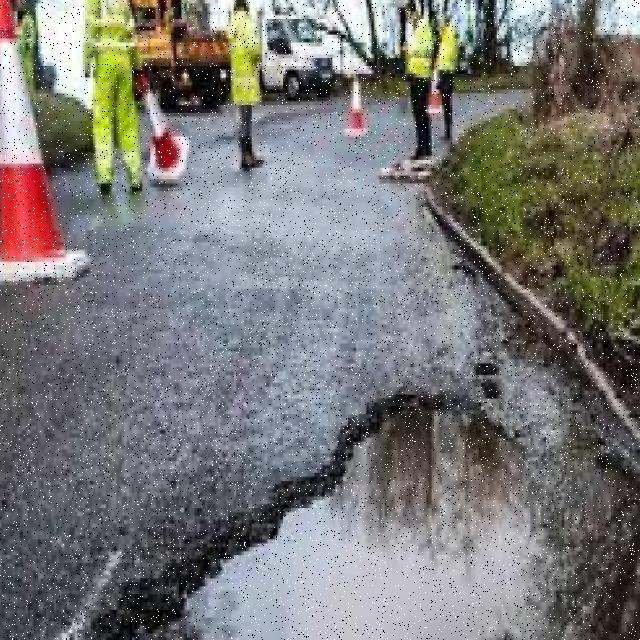pothole: (146, 356, 640, 640)
